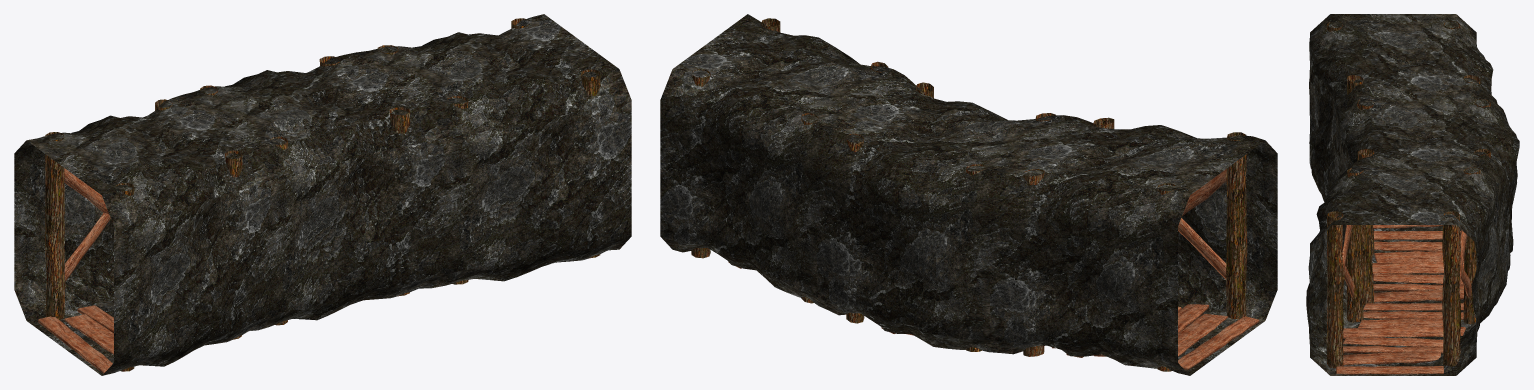
File: Cave_030.fbx
3 views of the same model, side by side, from view 1: azimuth 30°, elevation 25°; view 2: azimuth 150°, elevation 25°; view 3: azimuth 270°, elevation 25° (orthographic). The views are drawn at different scales.
Visible parts, largest first — view 1: Cave.030; view 2: Cave.030; view 3: Cave.030.
Boxes of the visible parts, x1,y1,x2,y2 form: Cave.030: [14, 14, 631, 375]; Cave.030: [660, 14, 1277, 375]; Cave.030: [1306, 14, 1519, 375].
Size of the model in its own units: 900 by 331 by 385.
